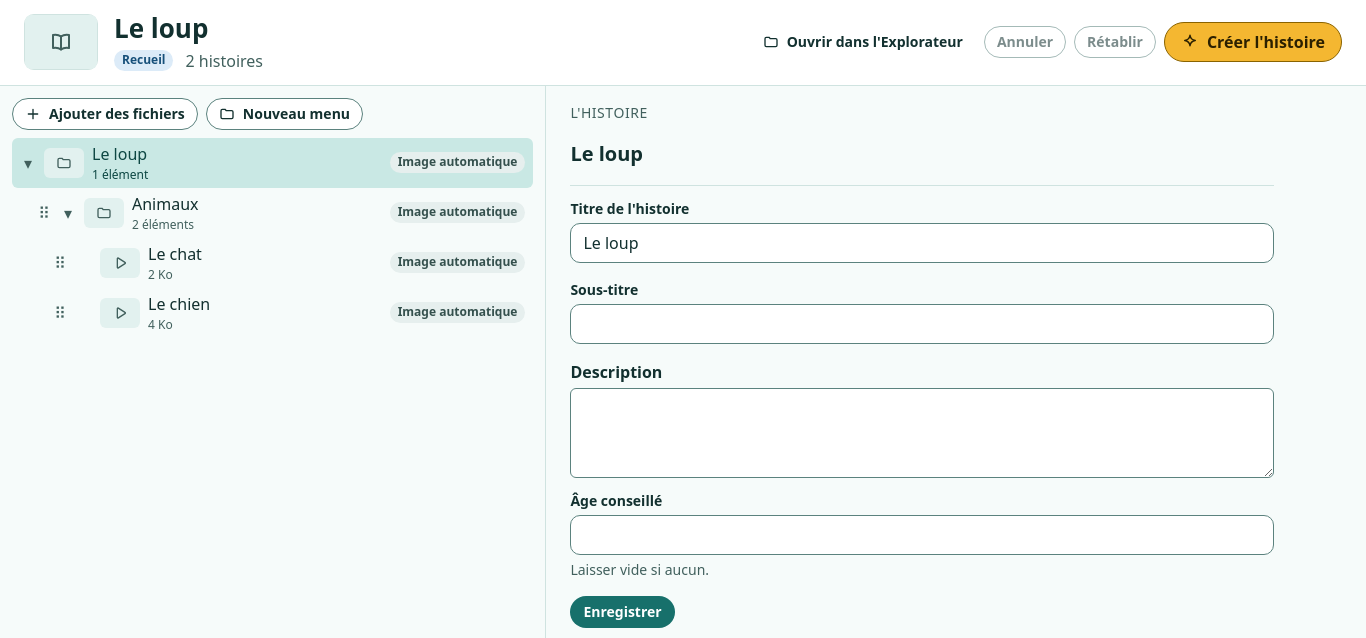
Scenario: pointeur : même place, sous le seuil, ou Échap : rien n'est fait
This screenshot has width=1366, height=638.
Press the mouse on the text "⠿" next to "Le chien" at [60, 312], box x1=54 y1=302 x2=66 y2=324
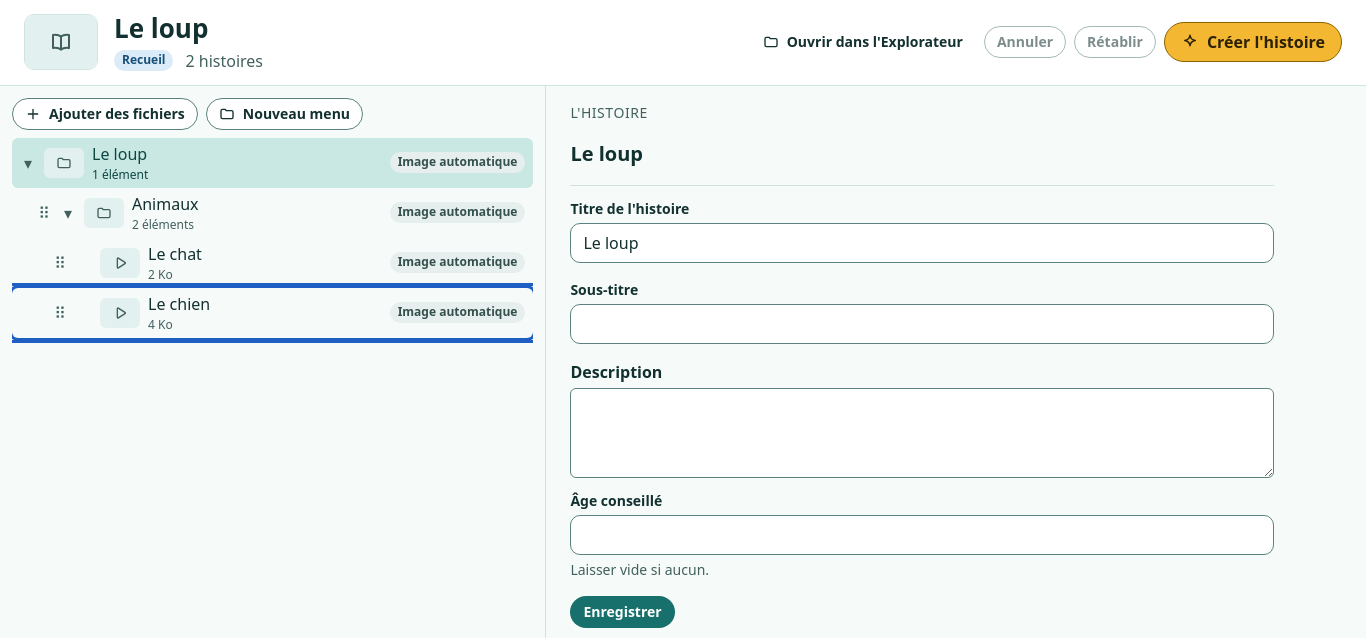
Press the mouse on the text "⠿" next to "Le chien" at [60, 312], box x1=54 y1=302 x2=66 y2=324
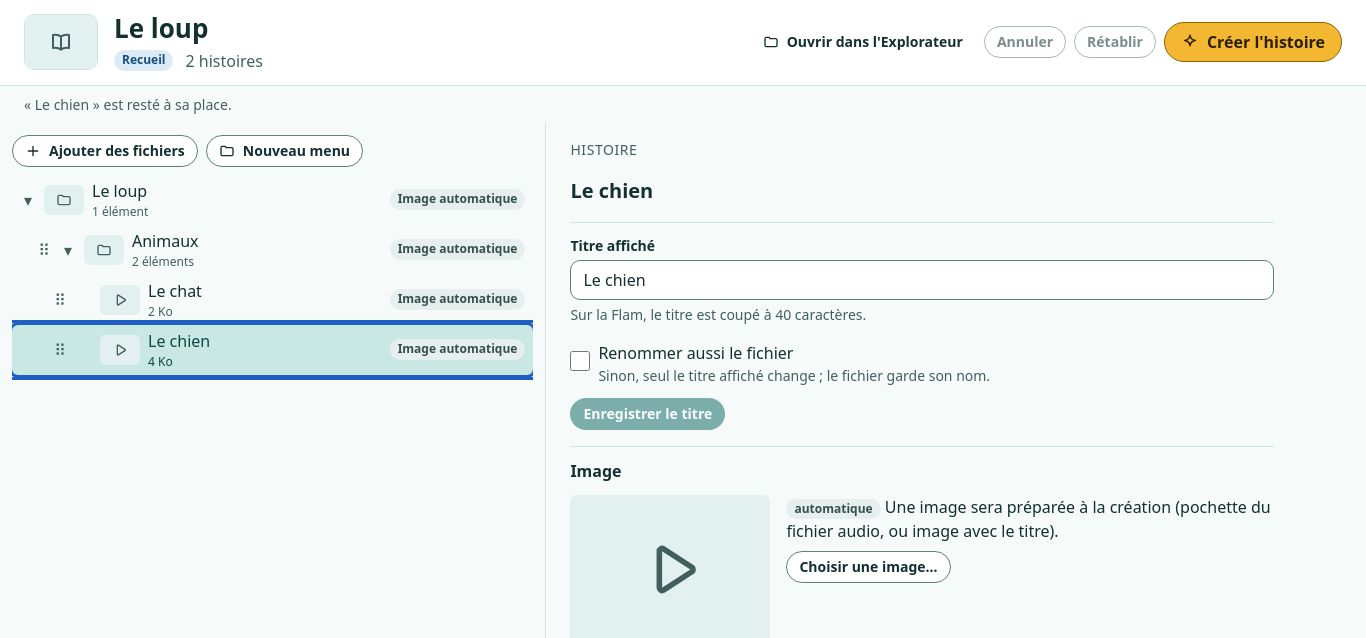
Expected: the message with class "fl-editor__status" reads "« Le chien » est resté à sa place.", x1=24 y1=94 x2=232 y2=114
Press the mouse on the text "⠿" next to "4 Ko" at [60, 350], box x1=54 y1=338 x2=66 y2=360
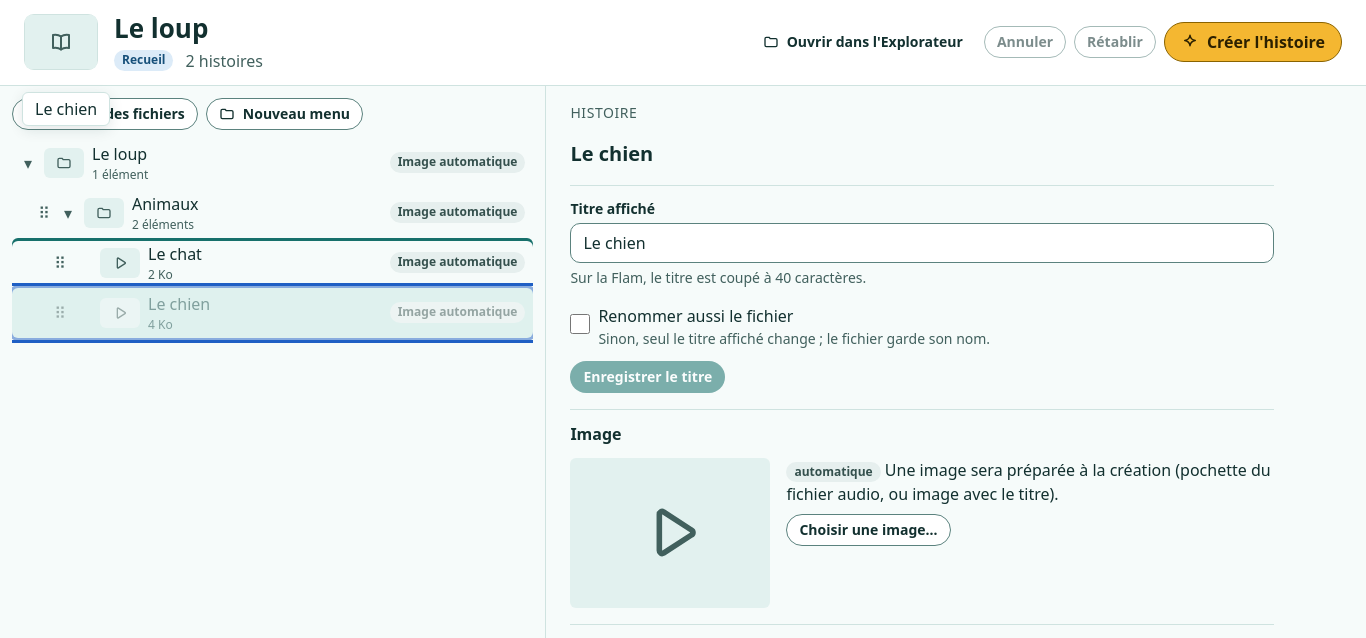
Press Escape
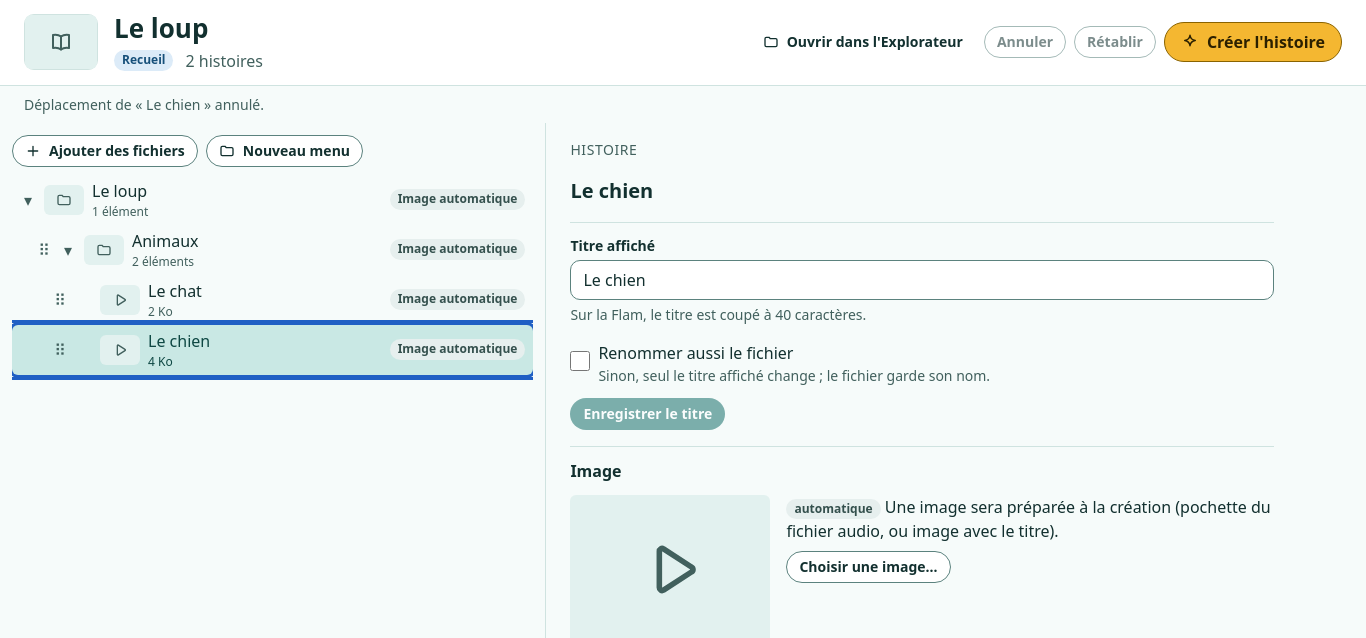
Expected: the text with class "fl-editor-dnd__ghost" is gone
Expected: the message with class "fl-editor__status" reads "Déplacement de « Le chien » annulé.", x1=24 y1=94 x2=264 y2=114
